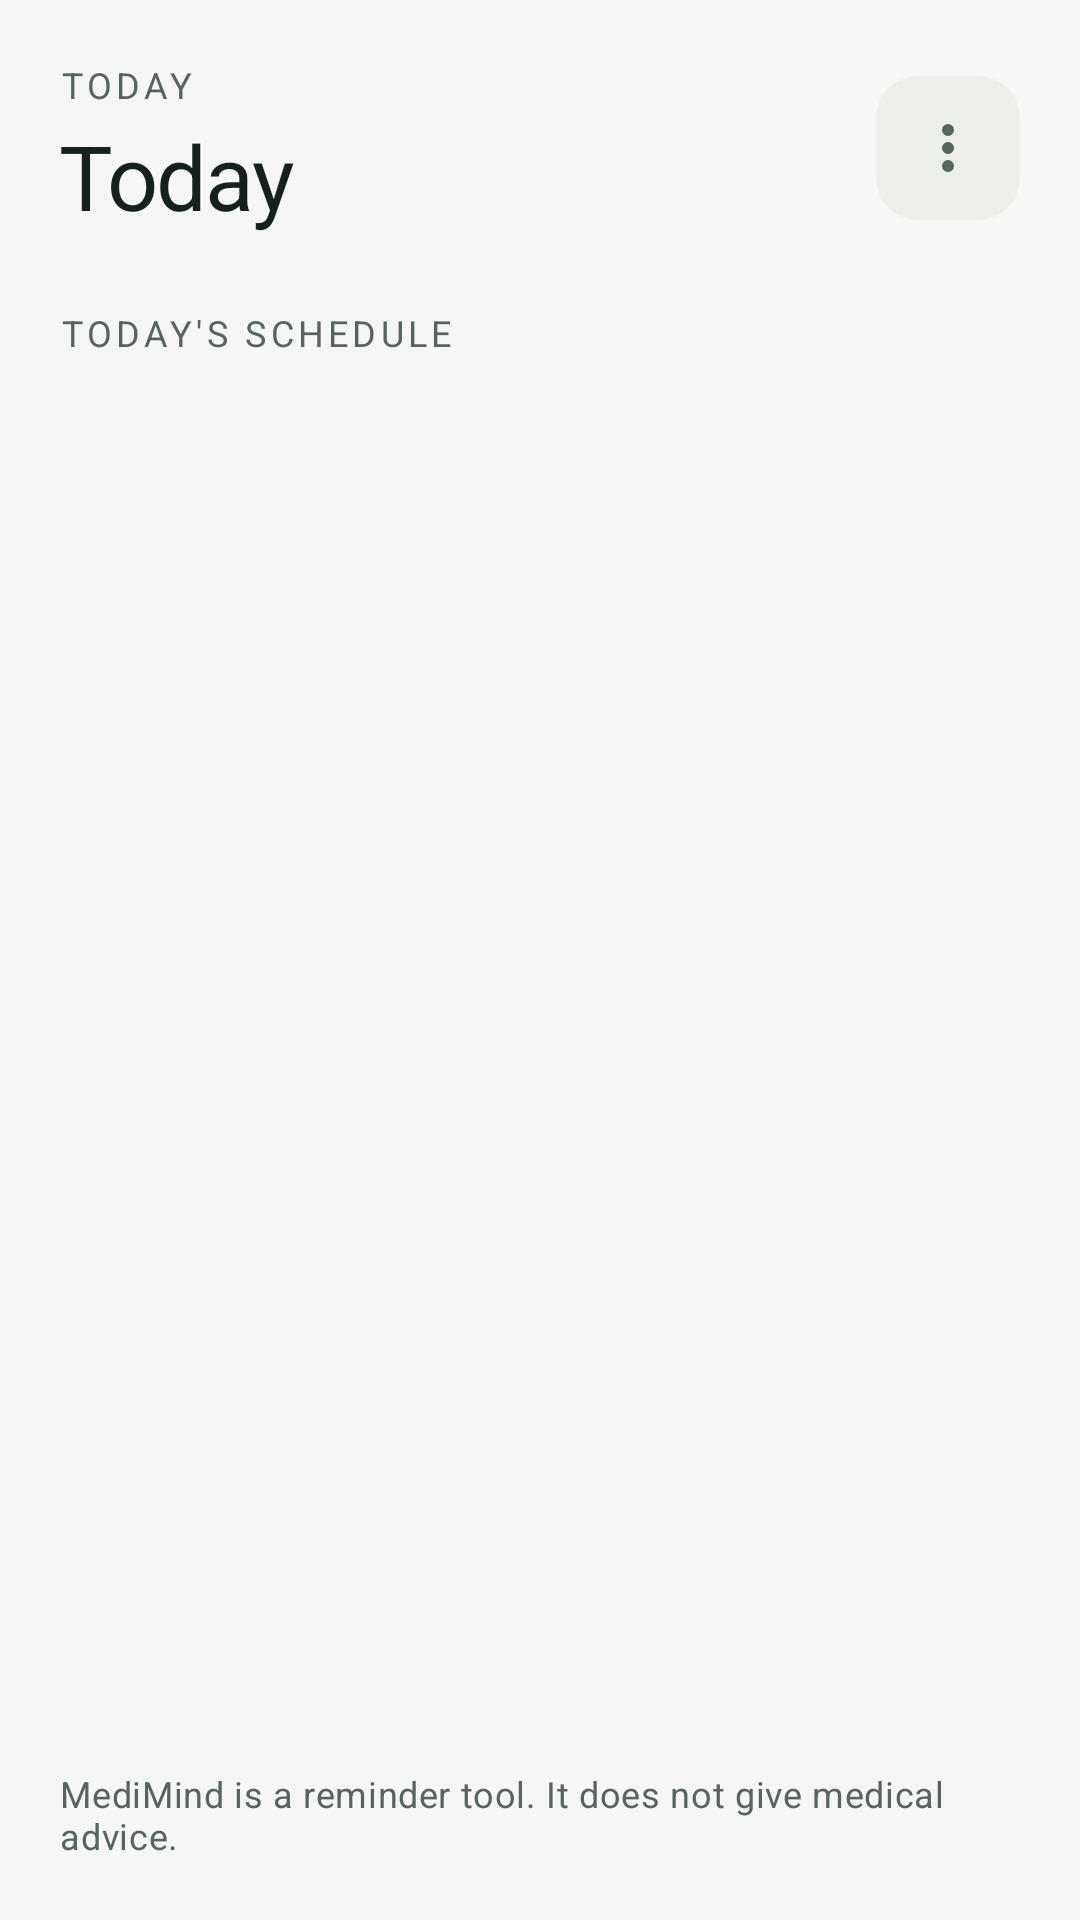

Icon click points for this 1080×1920 phone screenshot, format (x,y):
More options: (948,148)
